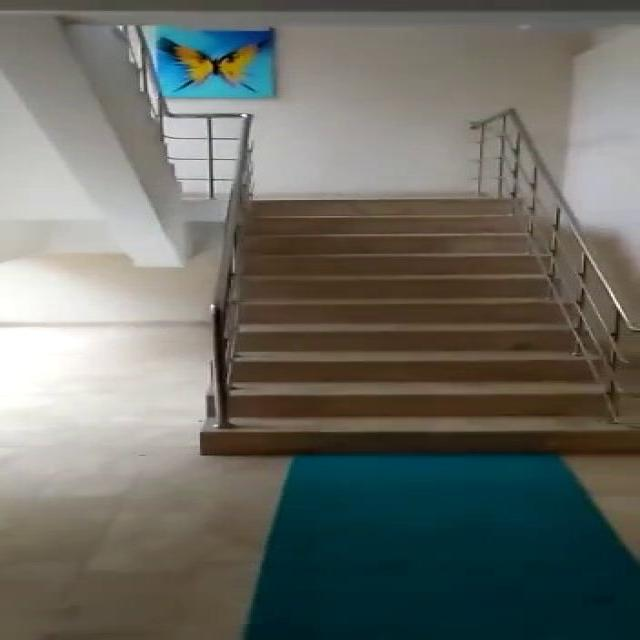stair: (197, 203, 640, 454)
